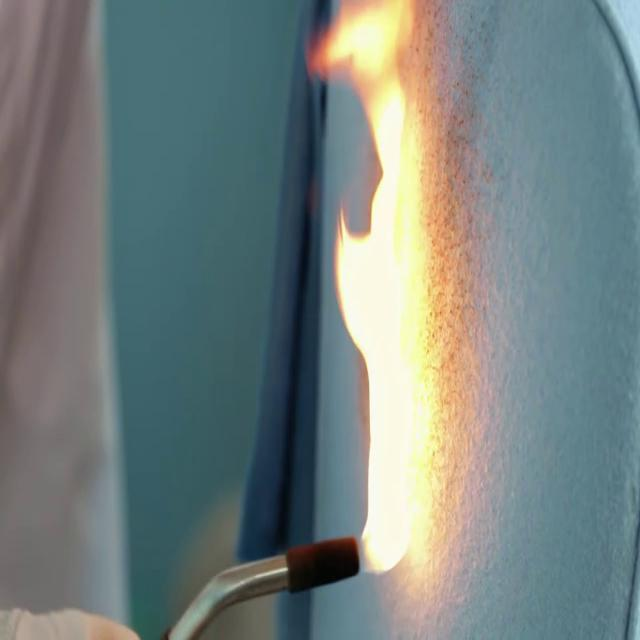Fire: (334, 6, 439, 580)
